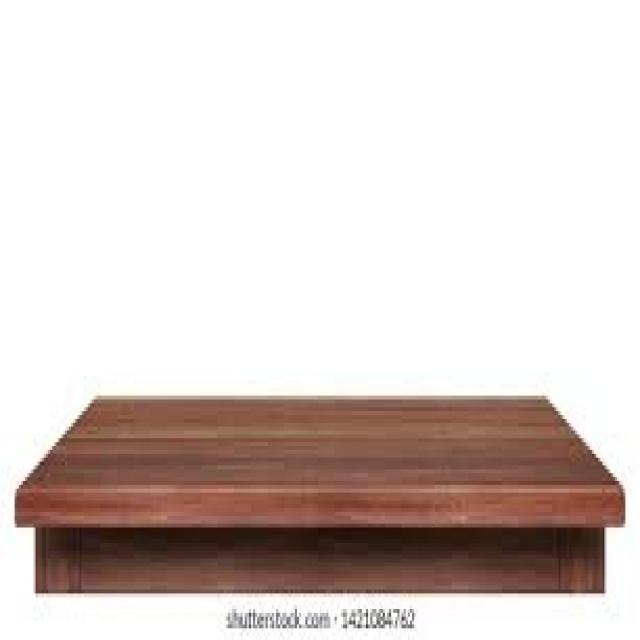obstacle: (21, 333, 628, 596)
